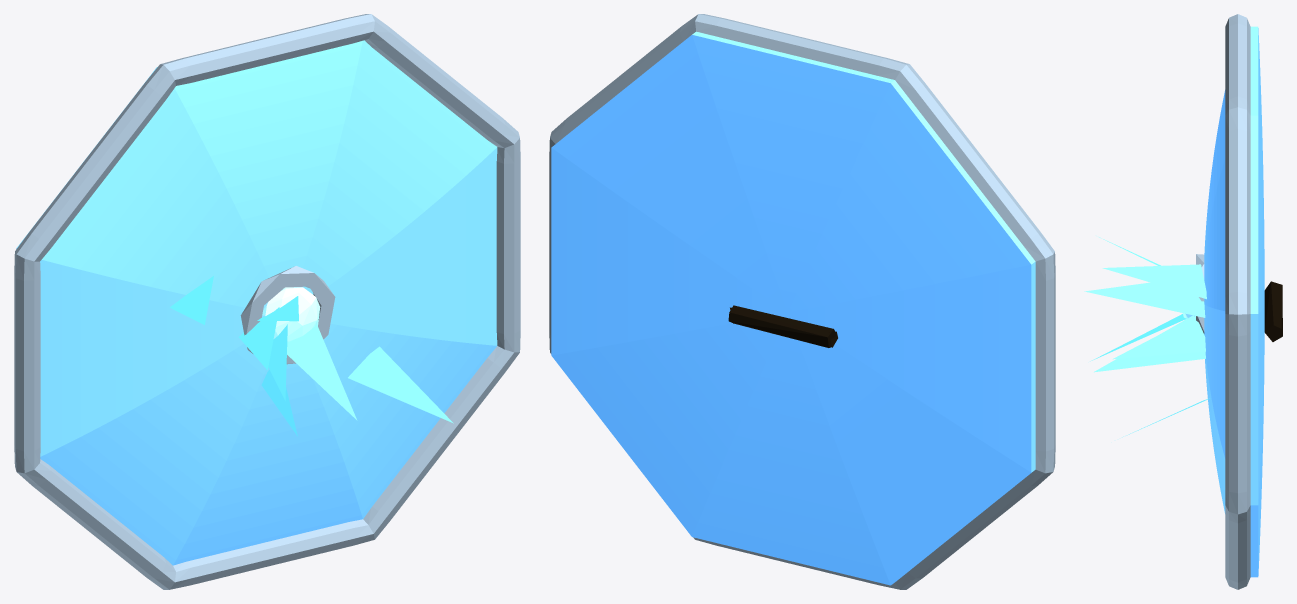
Rendered from shield_5.glb.
3 views of the same model, side by side, from view 1: azimuth 30°, elevation 25°; view 2: azimuth 150°, elevation 25°; view 3: azimuth 270°, elevation 25° (orthographic). The views are drawn at different scales.
Visible parts, largest first — view 1: part_01, part_02, part_15, part_11, part_12, part_14, part_05, part_07, part_04, part_09; view 2: part_01, part_02, part_16; view 3: part_02, part_01, part_03, part_10, part_06, part_08, part_16, part_12.
Part boxes in pixels (x1,y1,x2,y2): part_01: (16, 40, 497, 565); part_02: (14, 14, 520, 589); part_15: (240, 266, 335, 364); part_11: (348, 346, 453, 423); part_12: (287, 324, 357, 420); part_14: (262, 287, 320, 341); part_05: (239, 307, 279, 370); part_07: (170, 276, 213, 324); part_04: (268, 324, 287, 400); part_09: (261, 370, 297, 436); part_01: (551, 31, 1035, 585); part_02: (549, 14, 1055, 589); part_16: (728, 305, 836, 347); part_02: (1225, 14, 1250, 589); part_01: (1204, 26, 1264, 577); part_03: (1084, 282, 1205, 317); part_10: (1112, 316, 1205, 359); part_06: (1102, 264, 1206, 299); part_08: (1094, 315, 1205, 372); part_16: (1264, 281, 1282, 341); part_12: (1090, 314, 1186, 361).
Size of the model in its own units: 1.02 by 1.02 by 0.3789.
